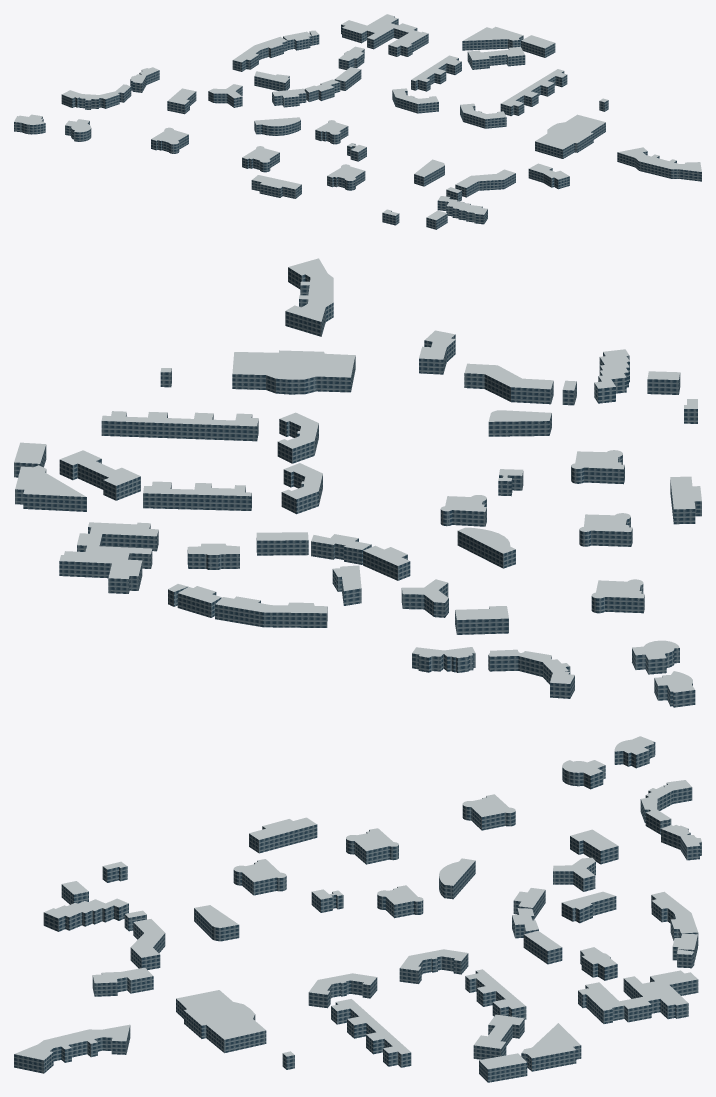
3 views of the same model, one above another, from view 1: azimuth 30°, elevation 25°; view 2: azimuth 150°, elevation 25°; view 3: azimuth 270°, elevation 25° (orthographic). The views are drawn at different scales.
Bounding box in the file's own units: 641 × 12.11 × 559.
2 materials, 1 textured.
